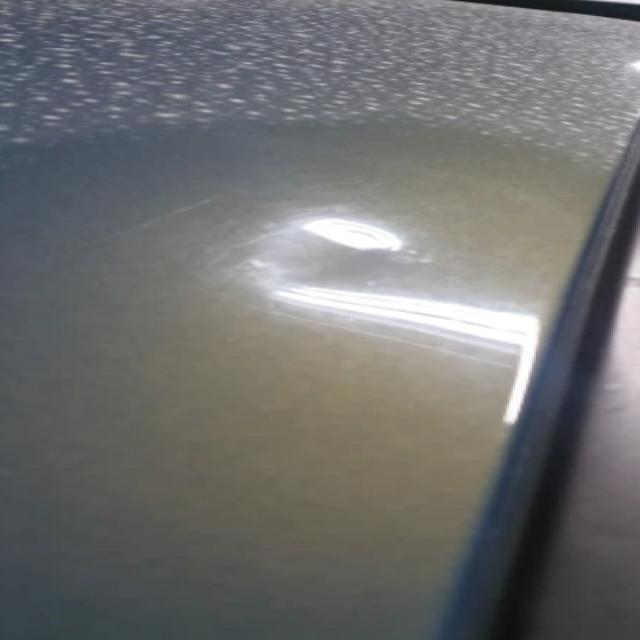dents: (199, 217, 507, 313)
